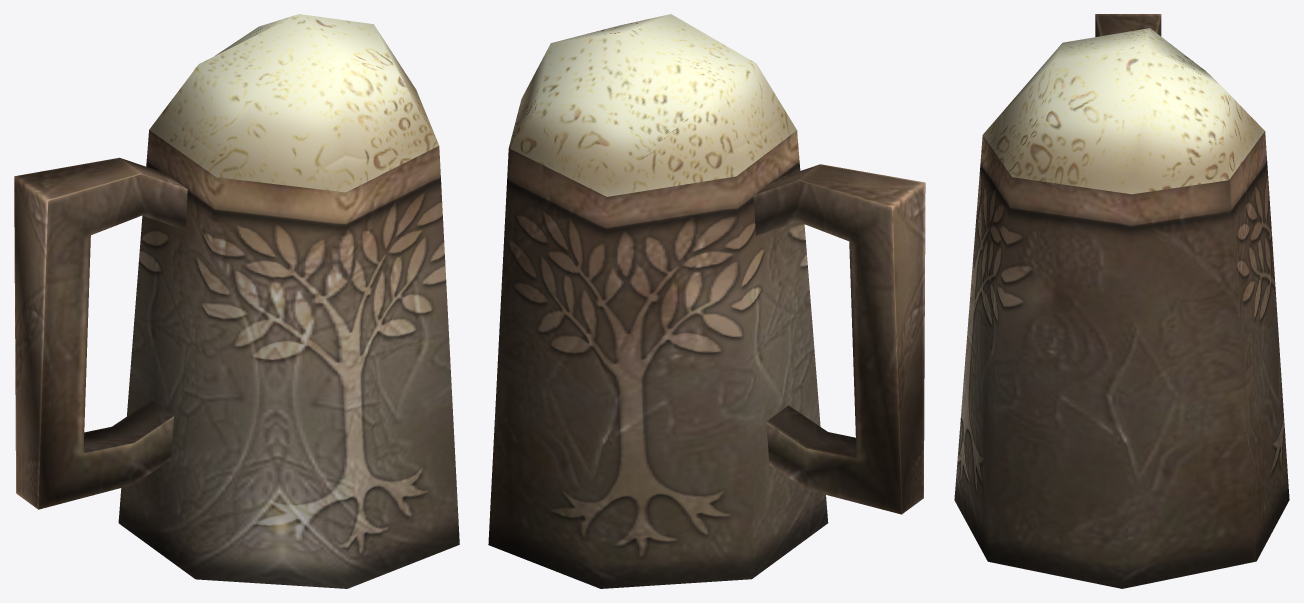
File: tankard01.FBX
The picture shows the model from 3 angles, left to right: view 1: azimuth 30°, elevation 25°; view 2: azimuth 150°, elevation 25°; view 3: azimuth 270°, elevation 25°; orthographic projection. The views are drawn at different scales.
Parts seen in each view (by area): view 1: tankard01; view 2: tankard01; view 3: tankard01.
Boxes of the visible parts, box(x1,y1,x2,y2) form: tankard01: box(14, 14, 459, 588); tankard01: box(488, 14, 925, 588); tankard01: box(954, 14, 1289, 588).
Bounding box in the file's own units: 0.291 × 0.2081 × 0.327.
